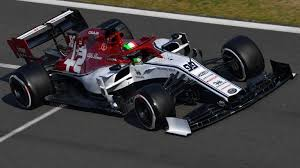FormulaOneCar: (7, 6, 300, 136)
